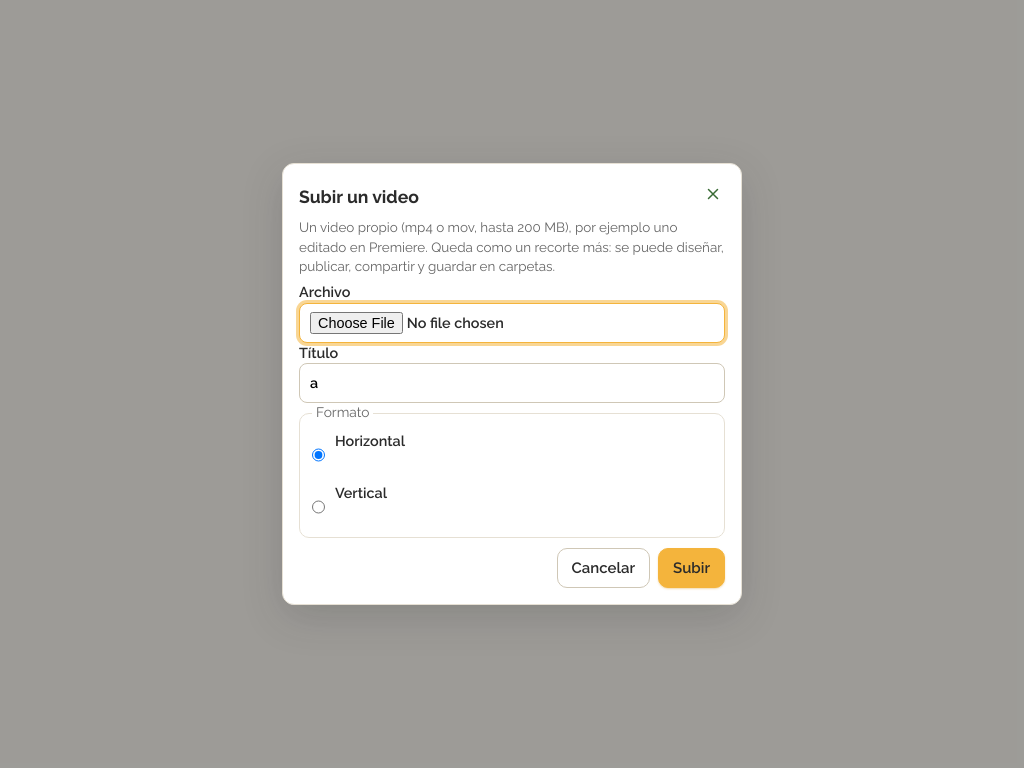
Test: Subir un video › muestra el error de la API y deja volver a intentar
Earlier steps of the test are not shown.
Click the button "Subir": coordinates (692, 568) [658,548,725,588]
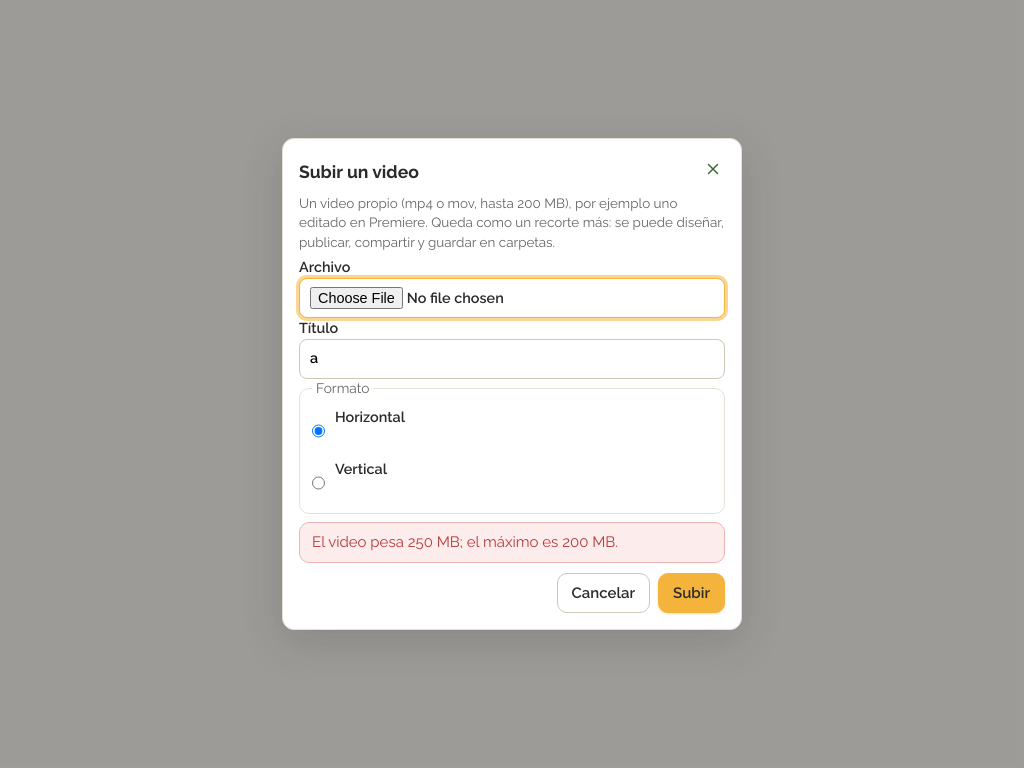
Expected: the button "Subir" is enabled, [658,573,725,613]
Now the text "El video pesa 250 MB; el máximo es 200 MB." is shown, box [299,522,725,563]
